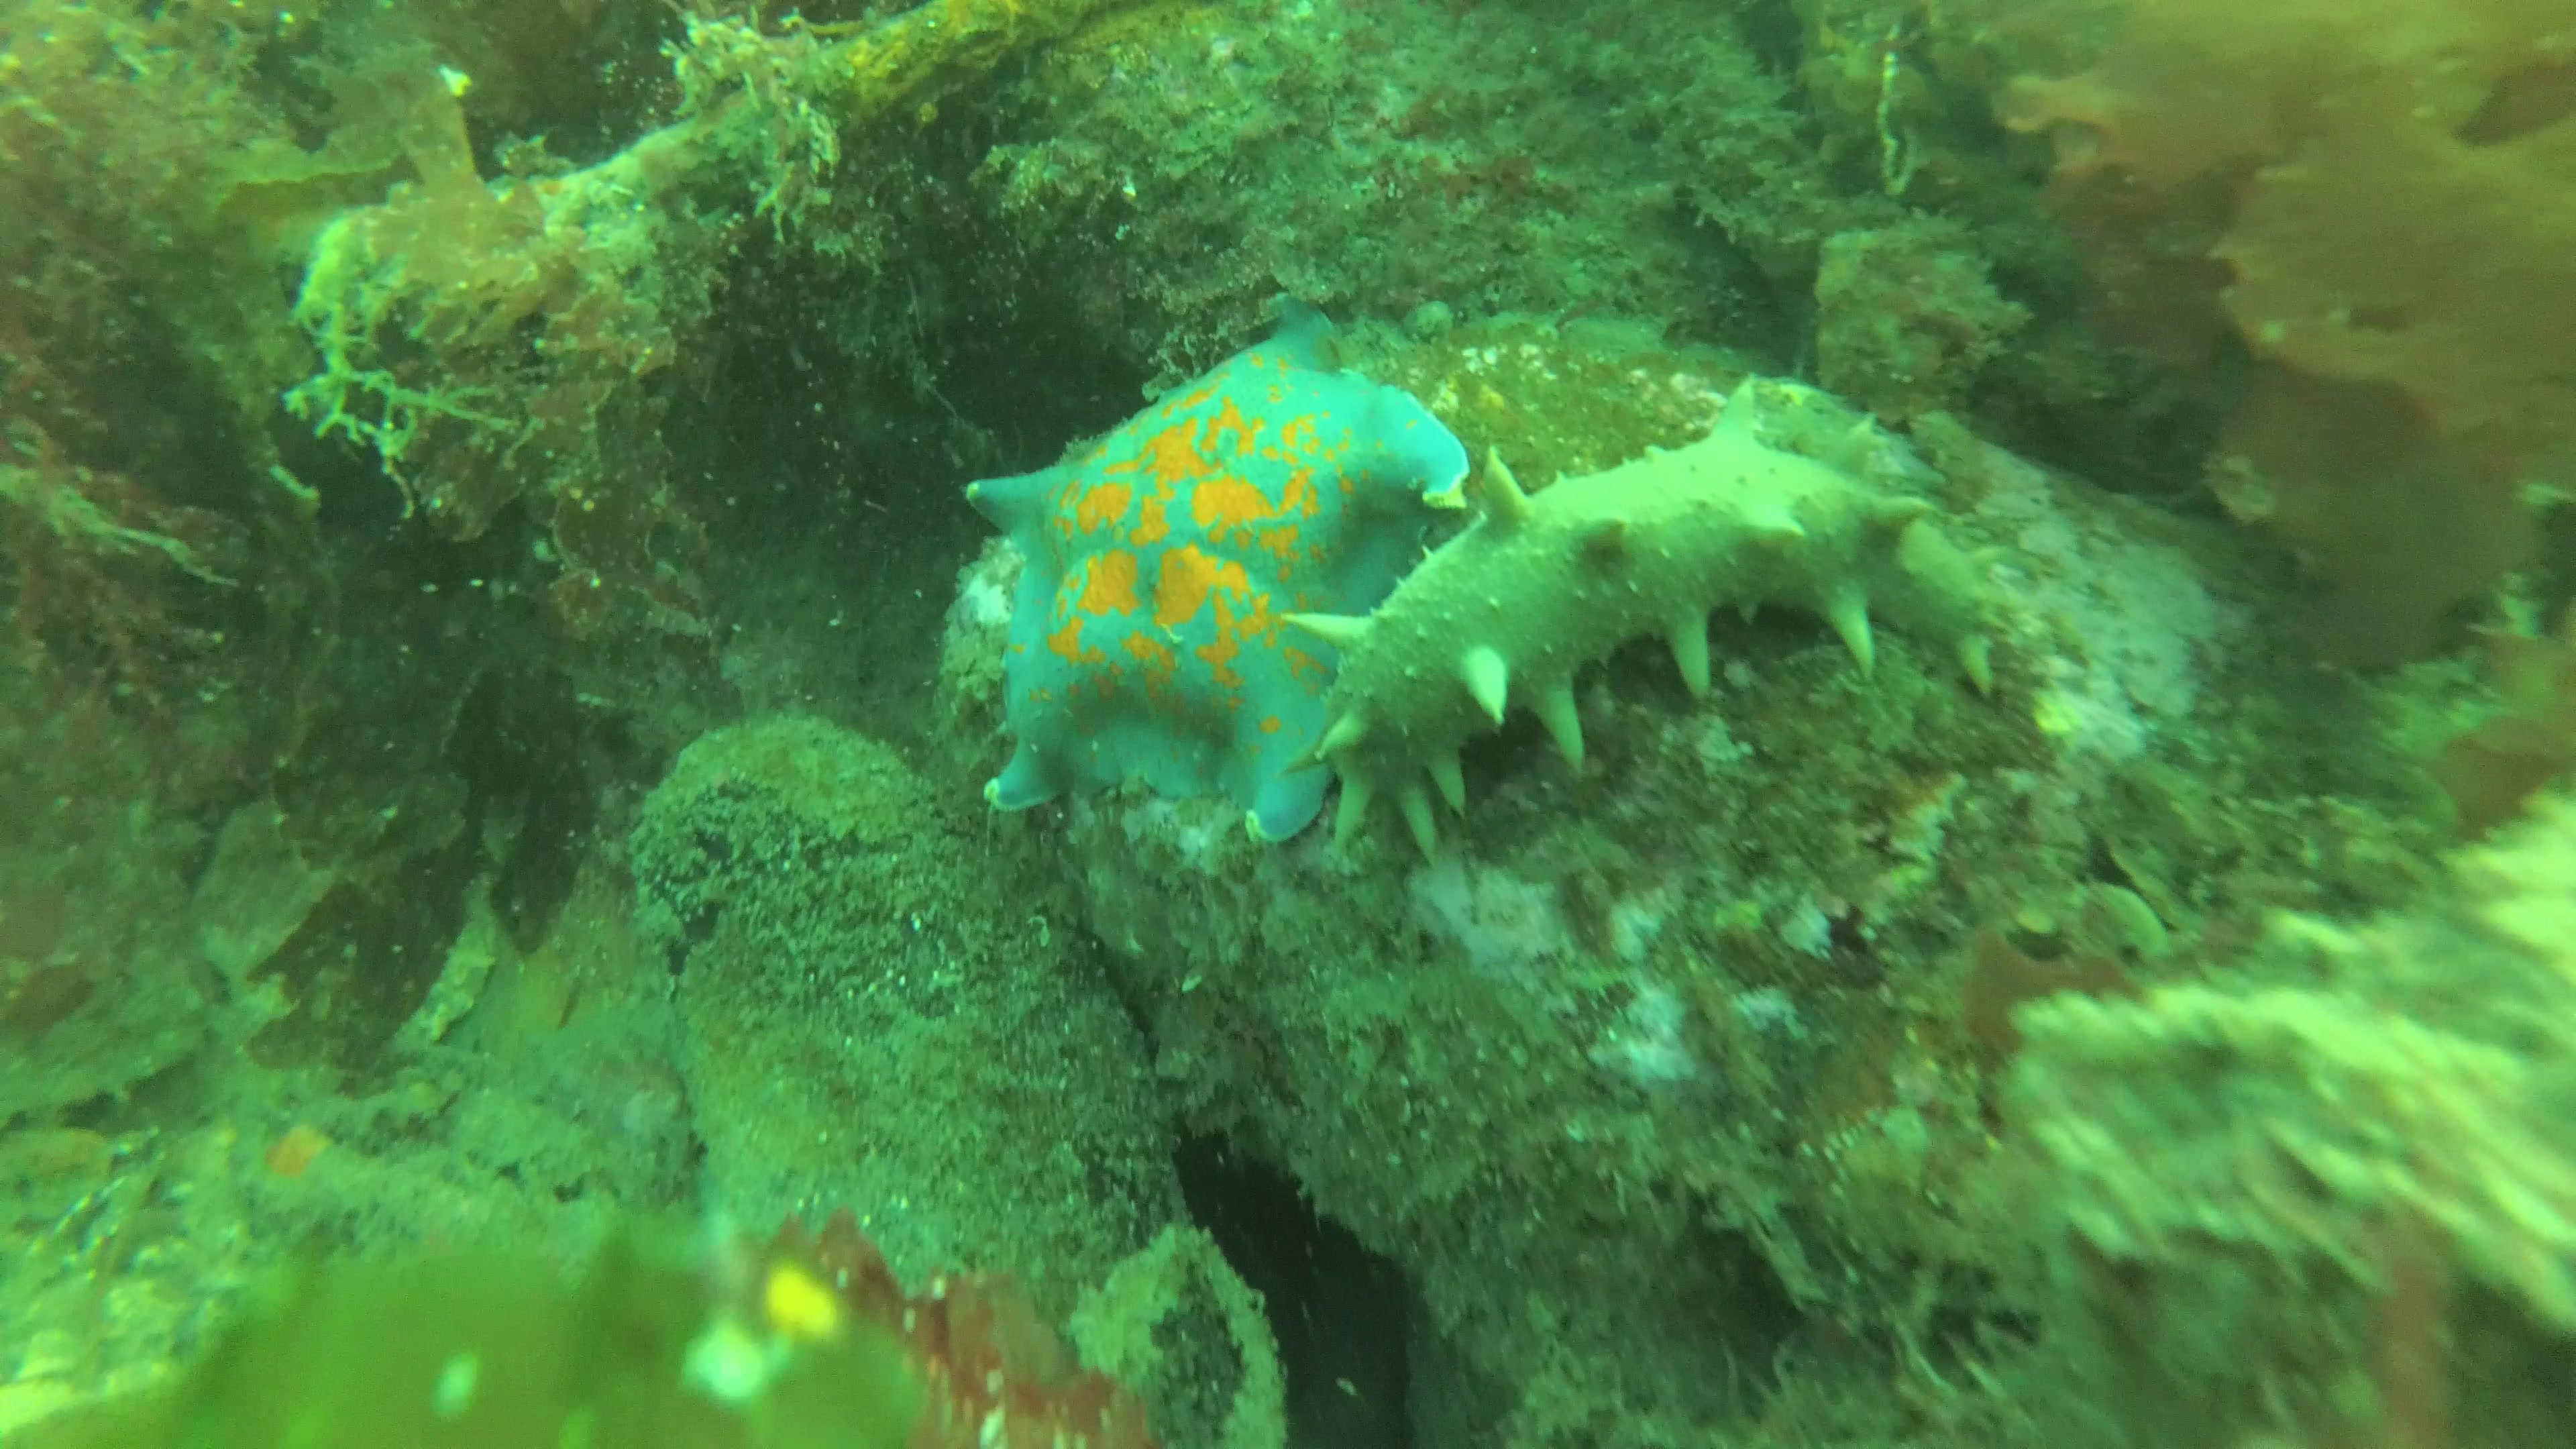holothurian: (1286, 379, 2010, 867)
starfish: (968, 303, 1470, 847)
